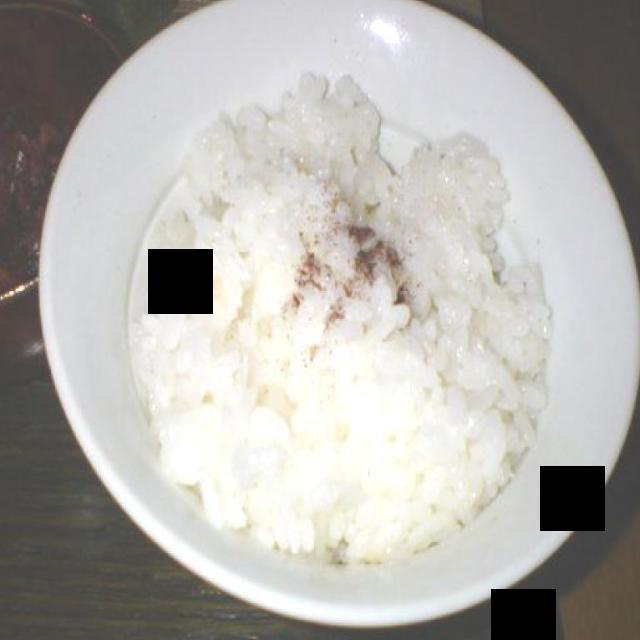rice: (125, 61, 553, 566)
